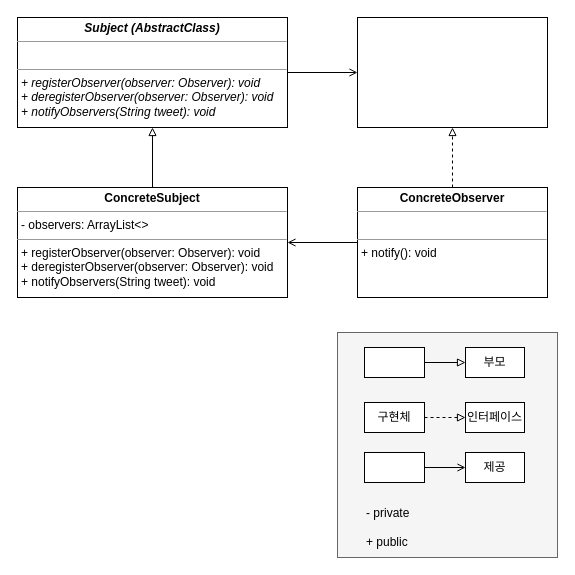
Image size: 575x575. Some labels were removed from this diagram. The centre of each missing label's shape, as x and y in pixels:
<<Interface>> Observer + notify(): void: the point at 452,72
받음: the point at 394,467
자식: the point at 394,362
